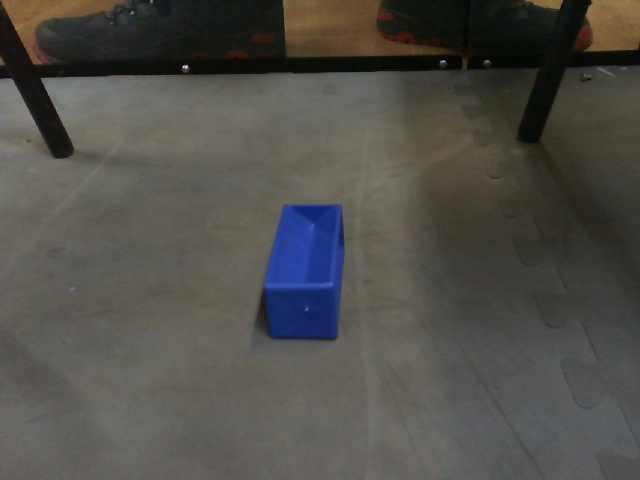BlueSample: (258, 203, 355, 343)
